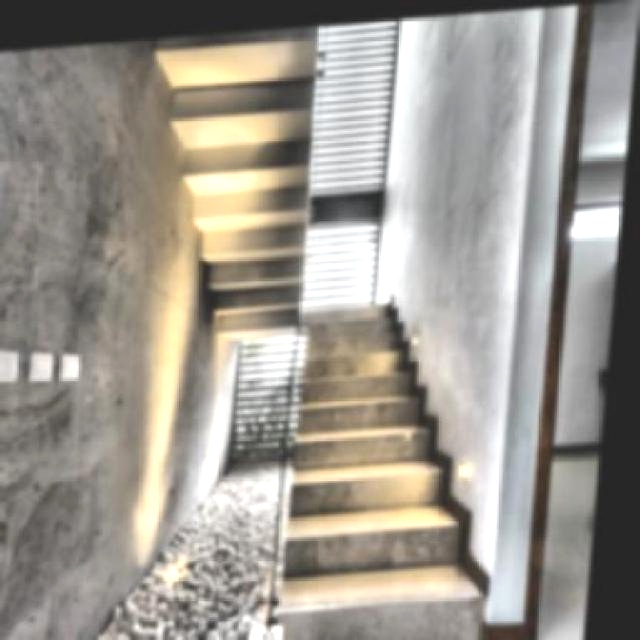stair: (286, 248, 519, 638)
